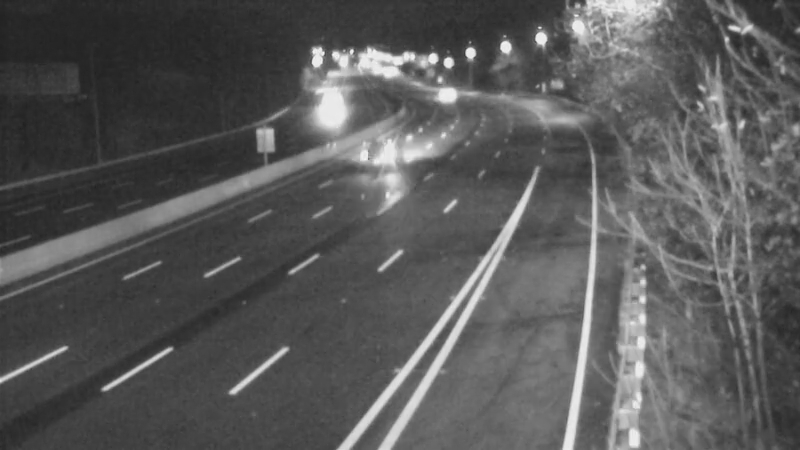vehicle: (342, 111, 422, 191), (423, 73, 473, 123), (301, 81, 351, 131)
